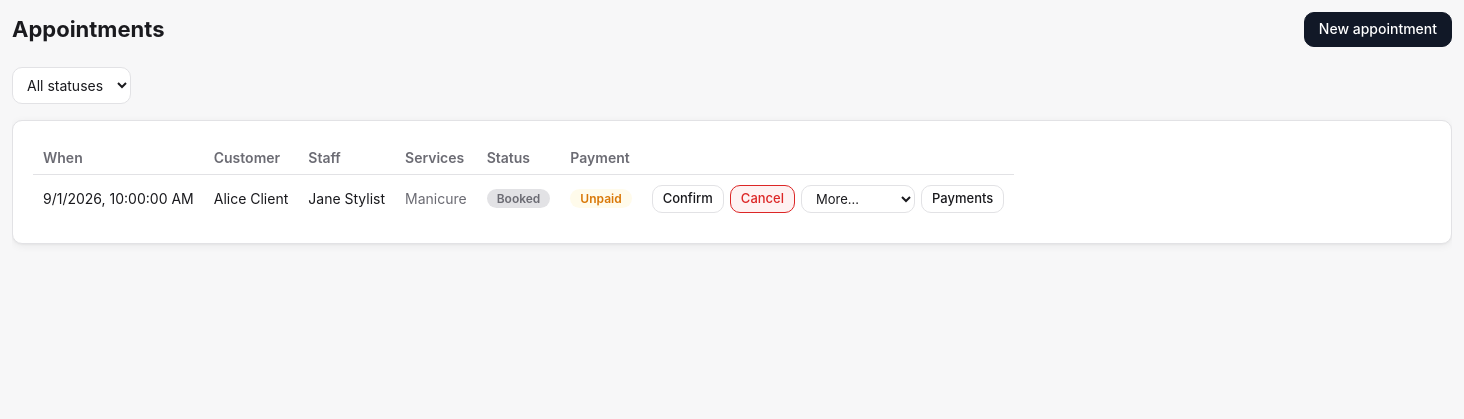
Test case: AppointmentsPage - payments › shows an error and keeps the form open if recording a payment fails
Expected: the text "Alice Client" is shown, x1=204 y1=174 x2=298 y2=223
Click the button "Payments" at (963, 199), box x1=921 y1=185 x2=1004 y2=213
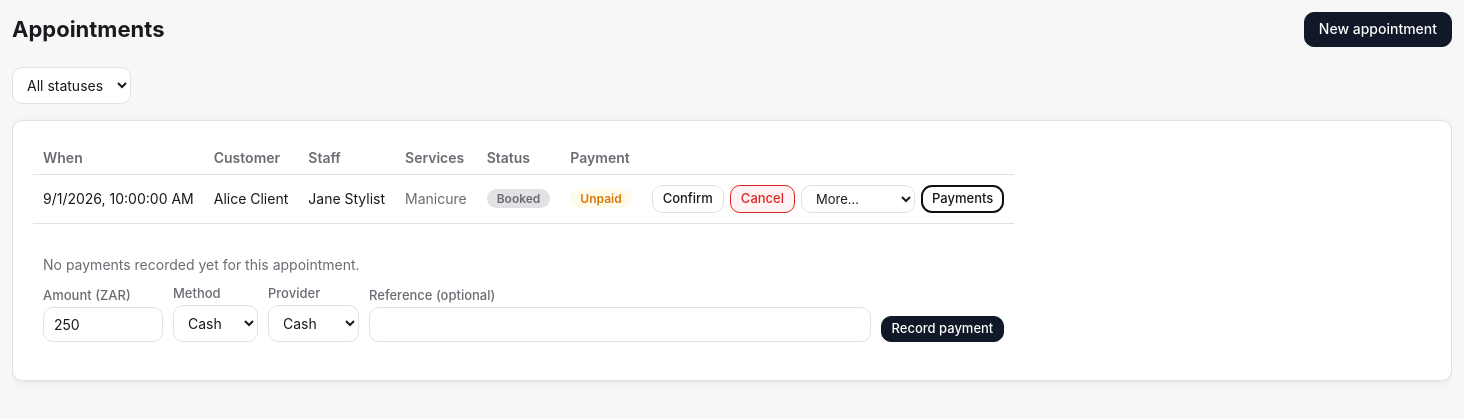
Now the text "No payments recorded yet for this appointment." is shown, box x1=43 y1=256 x2=360 y2=273
Click the button "Record payment" at (942, 329), box x1=880 y1=316 x2=1004 y2=342
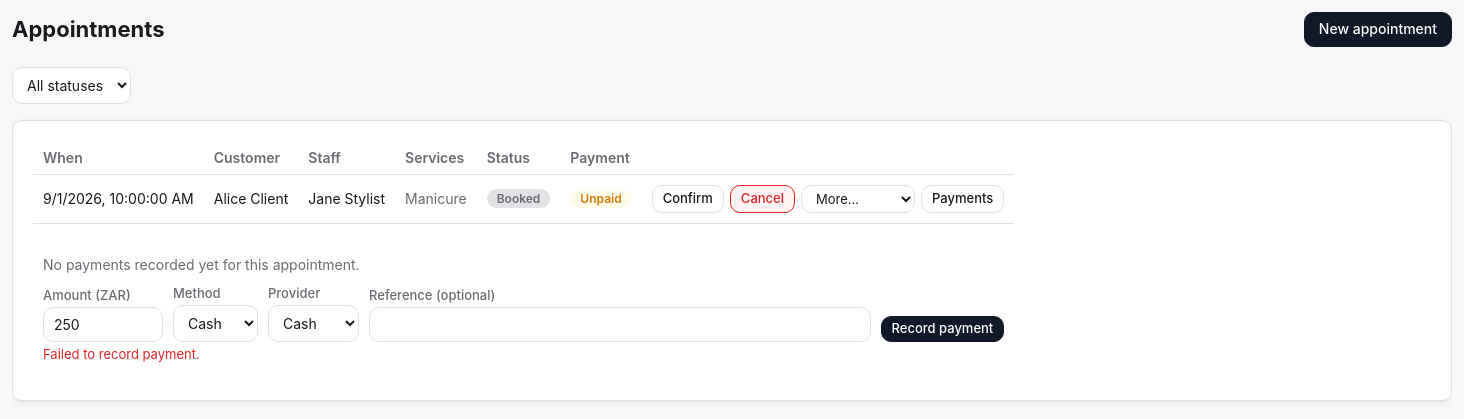
Now the text "Failed to record payment." is shown, box x1=43 y1=346 x2=200 y2=362
